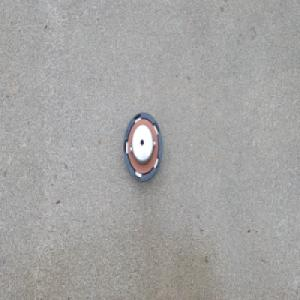FuelCap: (120, 112, 161, 186)
